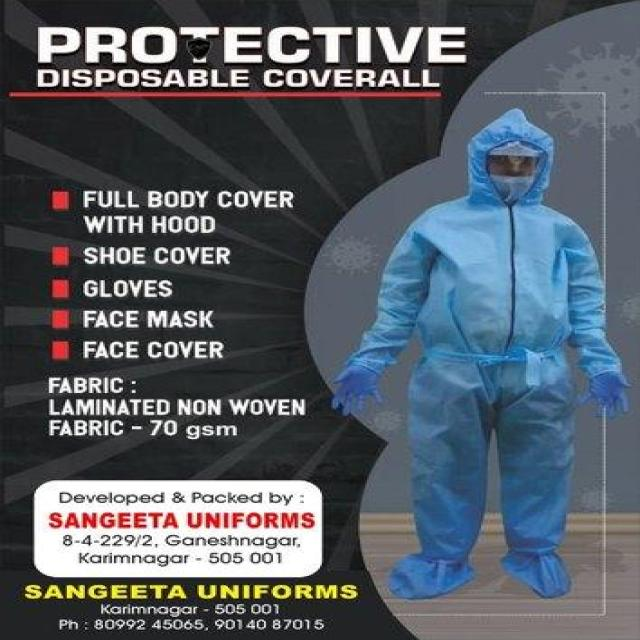Coverall: (327, 105, 640, 608)
Gloves: (327, 362, 391, 419), (575, 369, 634, 420)
Mask: (483, 171, 544, 201)
